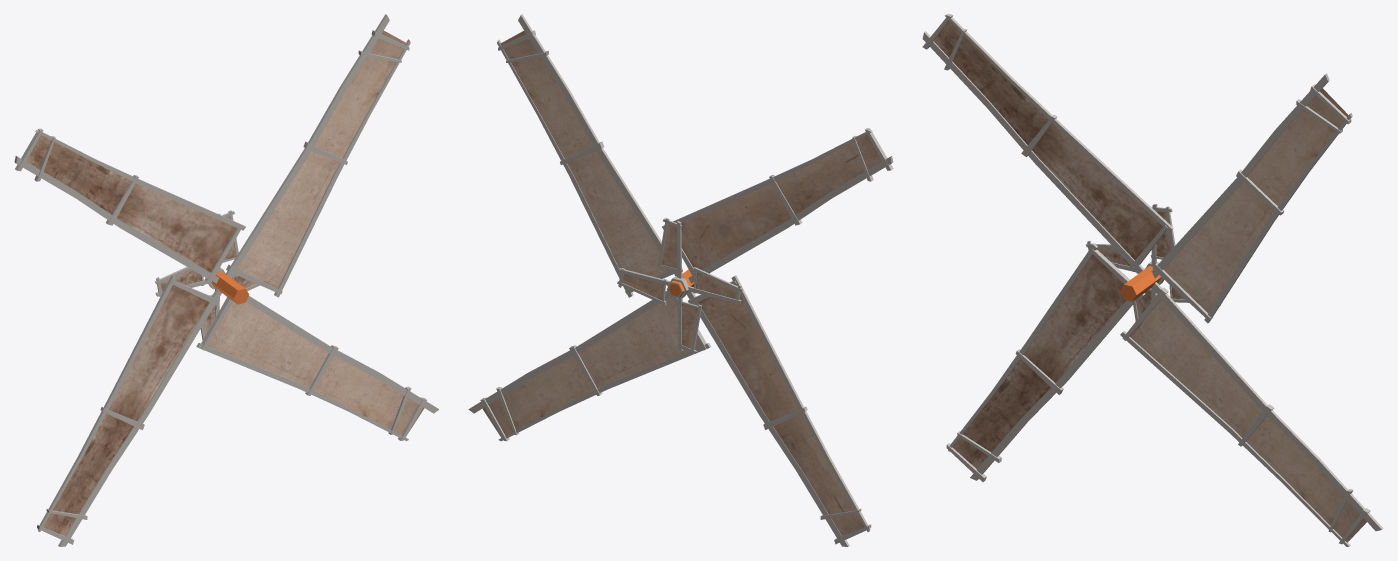
File: Windmill Wing_A_01.fbx
The picture shows the model from 3 angles, left to right: view 1: azimuth 30°, elevation 25°; view 2: azimuth 150°, elevation 25°; view 3: azimuth 330°, elevation 25°; orthographic projection. The views are drawn at different scales.
Visible parts, largest first — view 1: Windmill_Wing_A_01; view 2: Windmill_Wing_A_01; view 3: Windmill_Wing_A_01.
Boxes of the visible parts, x1,y1,x2,y2 form: Windmill_Wing_A_01: (14,14,438,546); Windmill_Wing_A_01: (468,14,893,546); Windmill_Wing_A_01: (922,14,1383,546).
Bounding box in the file's own units: 3292 × 3366 × 388.
